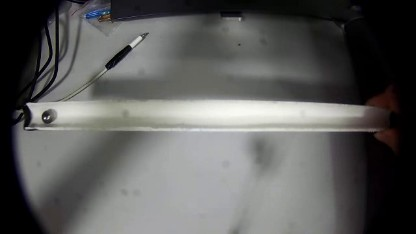gangzhu: (40, 107, 56, 124)
